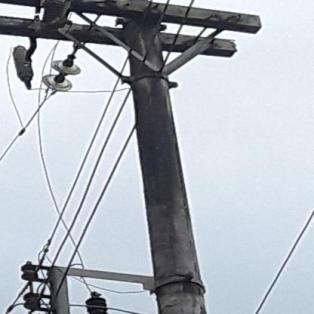Poste: (112, 0, 224, 314)
